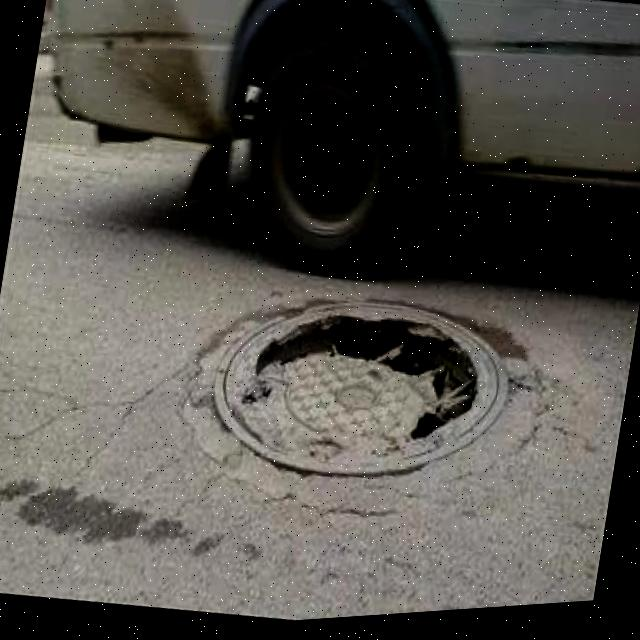manhole: (183, 262, 532, 519)
